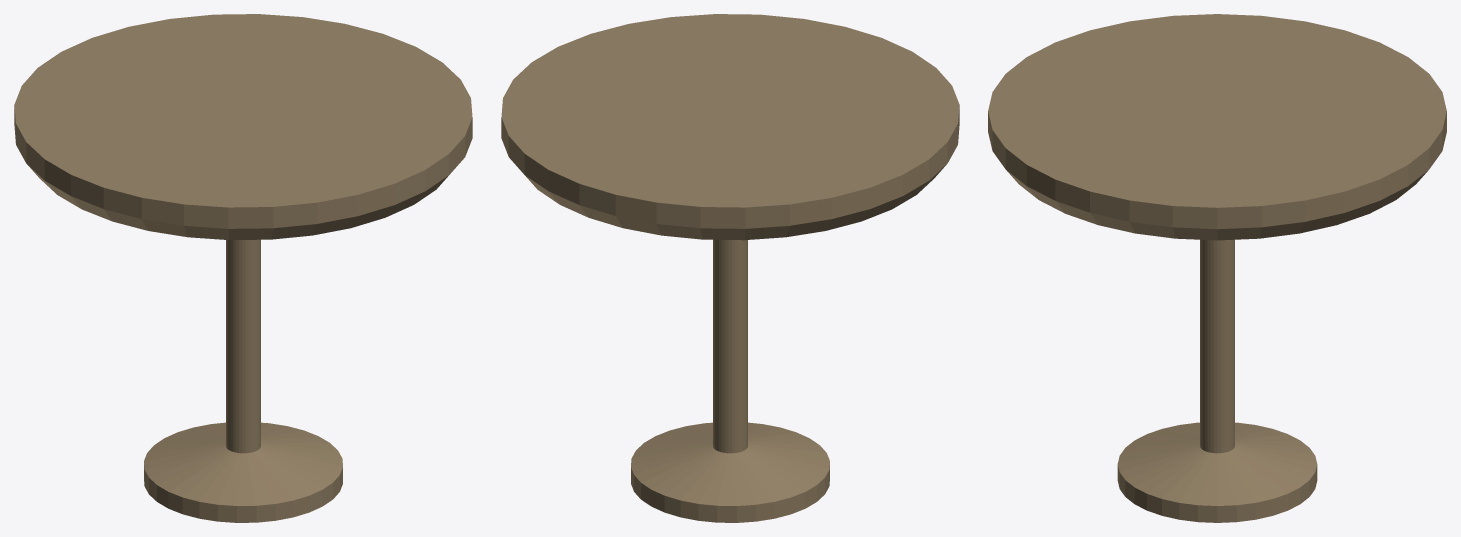
Rendered from Round_Table.fbx.
3 renders of one model, left to right at view 1: azimuth 30°, elevation 25°; view 2: azimuth 150°, elevation 25°; view 3: azimuth 270°, elevation 25°, orthographic.
Parts seen in each view (by area): view 1: Round Table; view 2: Round Table; view 3: Round Table.
Boxes of the visible parts, x1,y1,x2,y2 form: Round Table: [14, 14, 472, 522]; Round Table: [501, 14, 959, 522]; Round Table: [988, 14, 1446, 522].
Size of the model in its own units: 1440 by 1282 by 1440.
